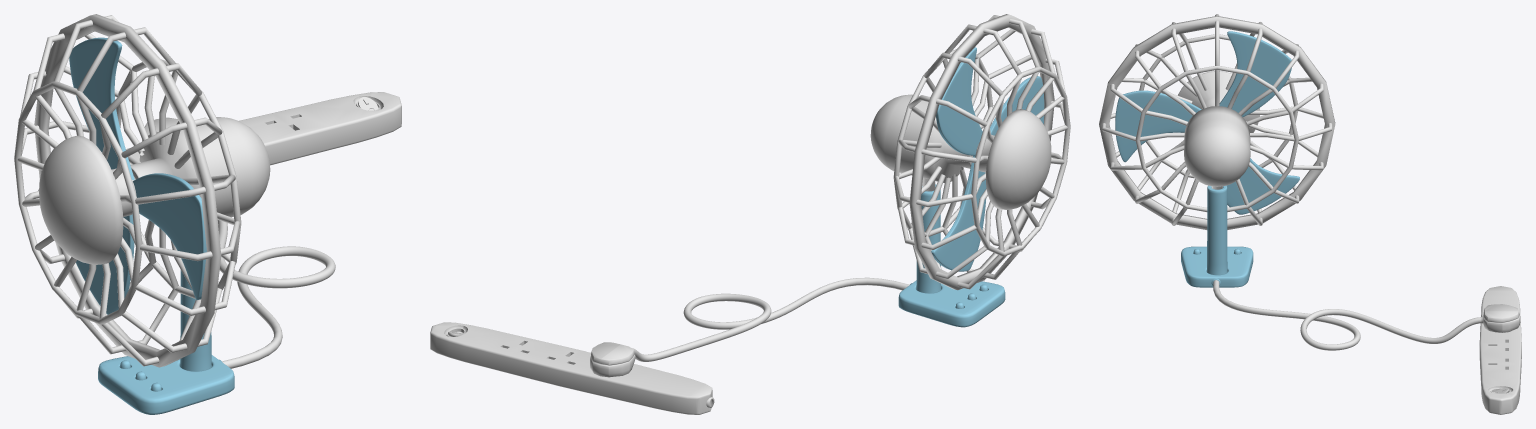
Rendered from Socket&Fan.fbx.
The picture shows the model from 3 angles, left to right: view 1: azimuth 30°, elevation 25°; view 2: azimuth 150°, elevation 25°; view 3: azimuth 270°, elevation 25°; orthographic projection. The views are drawn at different scales.
Parts seen in each view (by area): view 1: Fan, FanInside, Socket, Base, Cable; view 2: Fan, Socket, FanInside, Base, Cable, socket.002; view 3: Fan, FanInside, Socket, Base, Cable, socket.002.
Boxes of the visible parts, bbox=[...] form: Fan: bbox=[14, 14, 270, 367]; FanInside: bbox=[69, 37, 206, 314]; Socket: bbox=[38, 92, 401, 190]; Base: bbox=[98, 270, 234, 414]; Cable: bbox=[218, 220, 335, 368]; Fan: bbox=[870, 14, 1070, 290]; Socket: bbox=[430, 322, 714, 414]; FanInside: bbox=[931, 47, 1044, 271]; Base: bbox=[898, 184, 1005, 327]; Cable: bbox=[632, 277, 909, 361]; socket.002: bbox=[590, 342, 635, 377]; Fan: bbox=[1099, 14, 1335, 229]; FanInside: bbox=[1115, 31, 1299, 214]; Socket: bbox=[1479, 286, 1521, 414]; Base: bbox=[1181, 185, 1253, 287]; Cable: bbox=[1213, 280, 1481, 350]; socket.002: bbox=[1481, 304, 1520, 332].
Bounding box in the file's own units: 2192 × 2217 × 1402.
